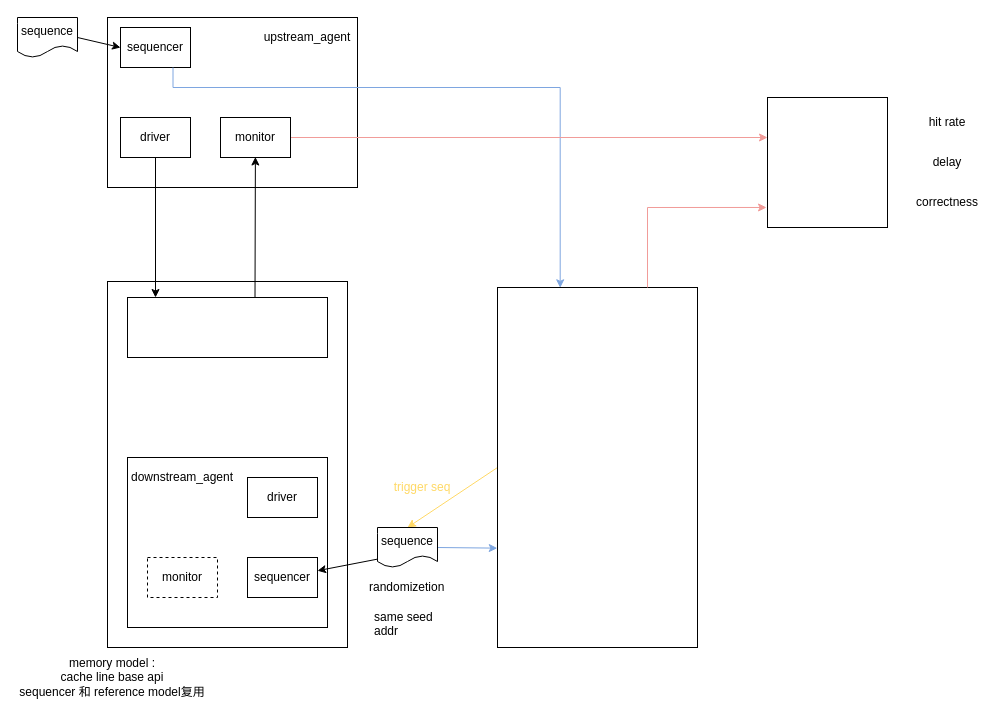
This 1005x716 diagram has some shape labels left out. The shapes that lost their labels are listed below. From the top down, each one's centre as x and y in pixels, then its label:
the point at 827,162: scoreboard
the point at 227,327: DUT
the point at 597,467: reference model
